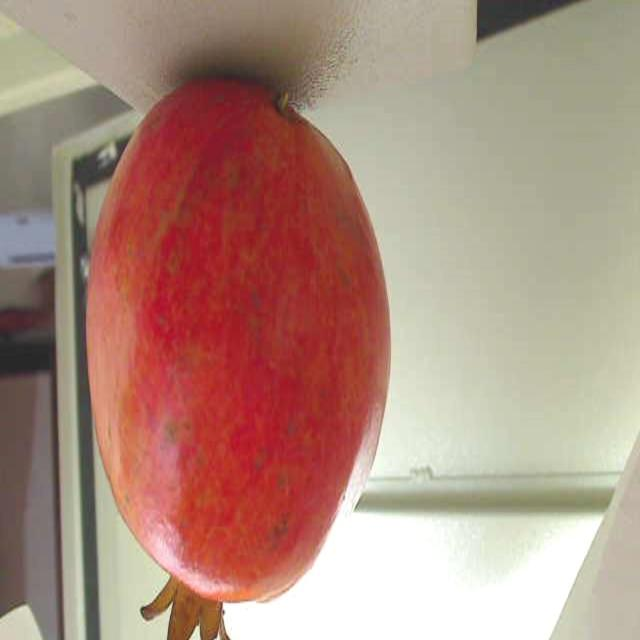pomegranate: (78, 65, 401, 640)
